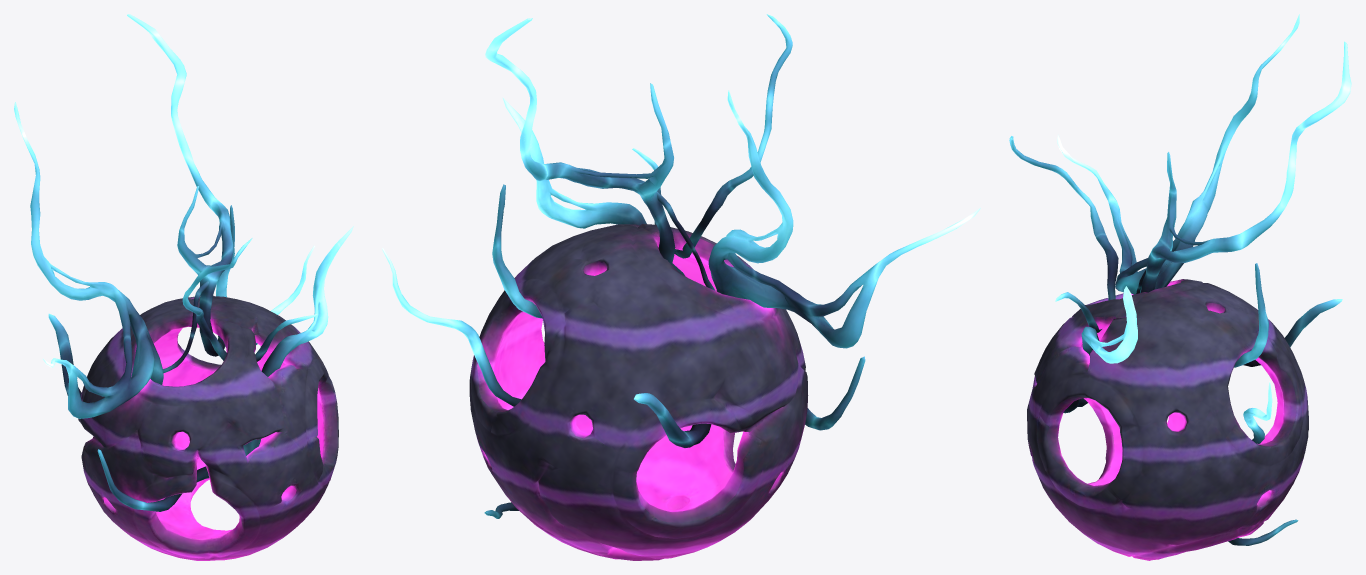
The model's file is caos_drs_chaospot_01a_v35.glb.
The picture shows the model from 3 angles, left to right: view 1: azimuth 30°, elevation 25°; view 2: azimuth 150°, elevation 25°; view 3: azimuth 270°, elevation 25°; orthographic projection. The views are drawn at different scales.
Parts seen in each view (by area): view 1: caos_drs_chaospot_01a; view 2: caos_drs_chaospot_01a; view 3: caos_drs_chaospot_01a.
Part boxes in pixels (x1,y1,x2,y2): caos_drs_chaospot_01a: (14,14,353,560); caos_drs_chaospot_01a: (382,14,980,560); caos_drs_chaospot_01a: (1009,14,1351,560).
Size of the model in its own units: 2.37 by 2.89 by 1.77.
Materials: 2 (2 with a texture image).
